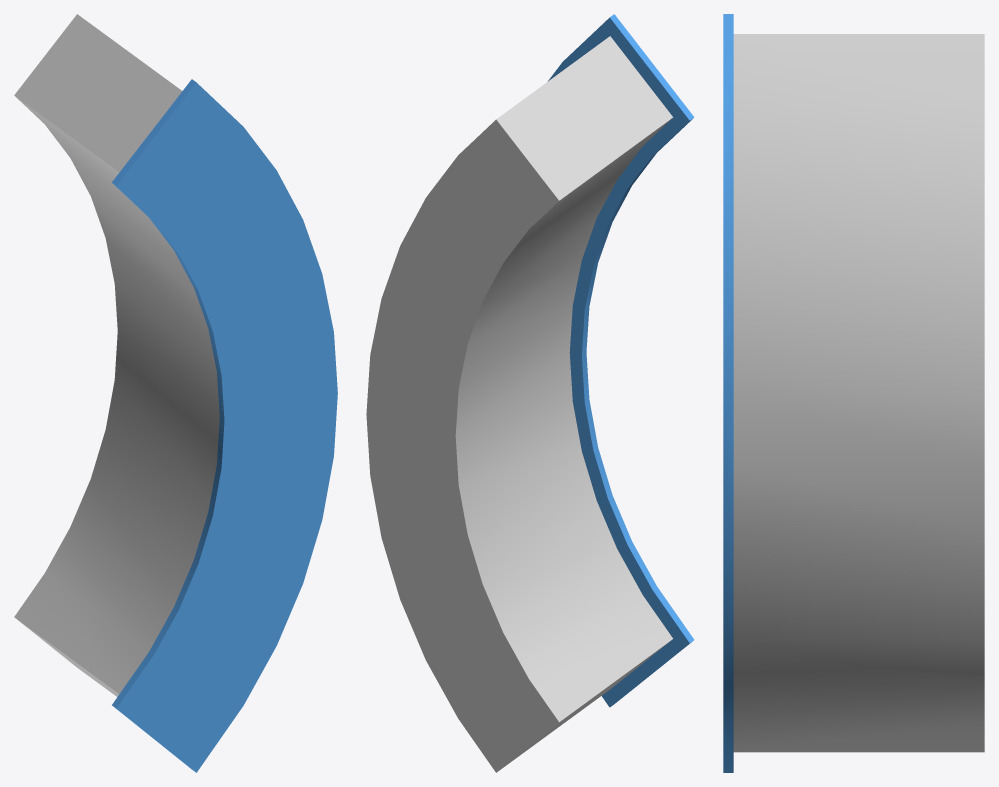
File: reseption_2.dae
3 renders of one model, left to right at view 1: azimuth 30°, elevation 25°; view 2: azimuth 150°, elevation 25°; view 3: azimuth 270°, elevation 25°, orthographic. The views are drawn at different scales.
Visible parts, largest first — view 1: coords_ME_ID3_MA_material, coords_ME_ID11_MA_material_0; view 2: coords_ME_ID11_MA_material_0, coords_ME_ID3_MA_material; view 3: coords_ME_ID11_MA_material_0, coords_ME_ID3_MA_material.
Boxes of the visible parts, bbox=[...] form: coords_ME_ID3_MA_material: bbox=[112, 79, 337, 772]; coords_ME_ID11_MA_material_0: bbox=[14, 14, 219, 696]; coords_ME_ID11_MA_material_0: bbox=[366, 36, 673, 772]; coords_ME_ID3_MA_material: bbox=[547, 14, 694, 707]; coords_ME_ID11_MA_material_0: bbox=[733, 34, 984, 752]; coords_ME_ID3_MA_material: bbox=[723, 14, 733, 772].
Size of the model in its own units: 12.53 by 37.32 by 11.64.
